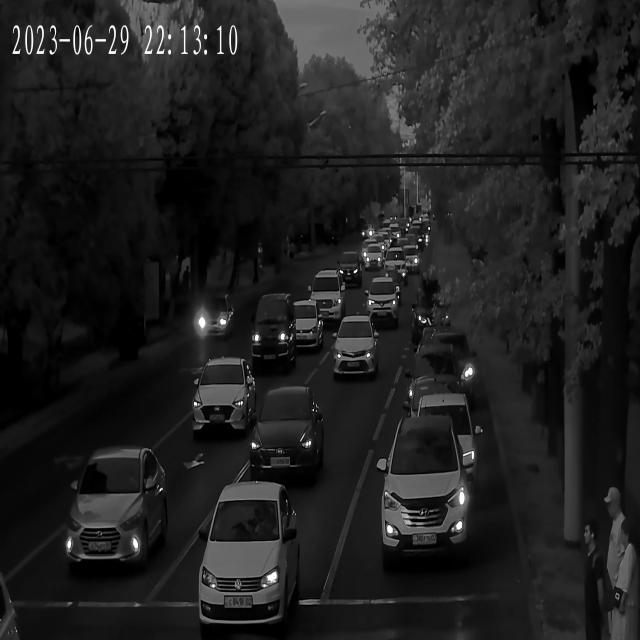Car: (196, 486, 301, 634), (379, 414, 472, 568), (67, 451, 173, 575), (251, 384, 328, 484), (415, 394, 477, 482), (190, 360, 258, 440), (408, 342, 464, 432), (423, 329, 476, 404), (252, 293, 295, 372), (333, 317, 379, 384), (288, 300, 327, 354), (310, 265, 346, 322), (196, 296, 234, 341), (368, 276, 400, 326), (381, 247, 411, 288), (337, 246, 361, 290), (398, 247, 424, 270), (374, 227, 394, 251), (368, 246, 383, 268)
